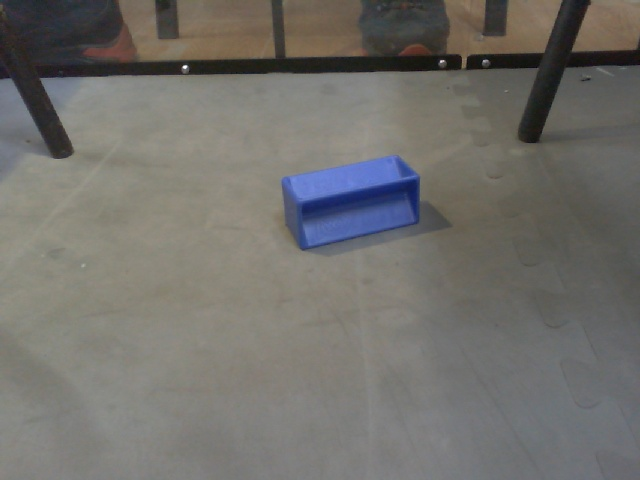BlueSample: (272, 152, 426, 252)
